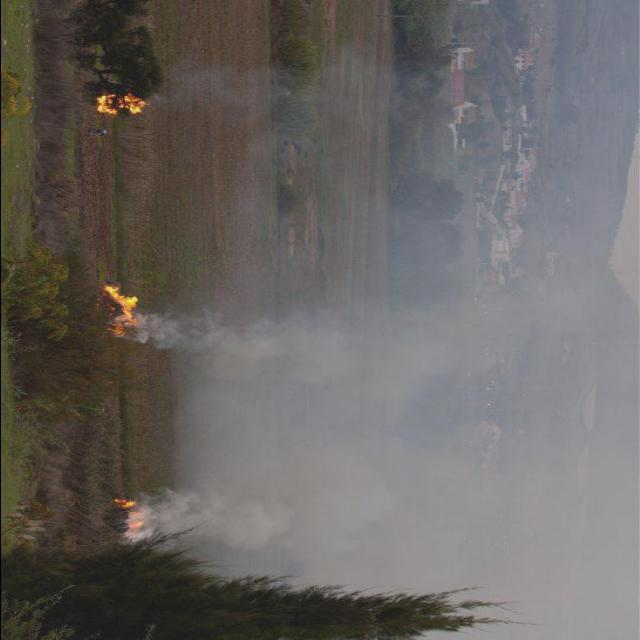Fire: (101, 284, 142, 334), (95, 90, 151, 112), (115, 496, 149, 530)
